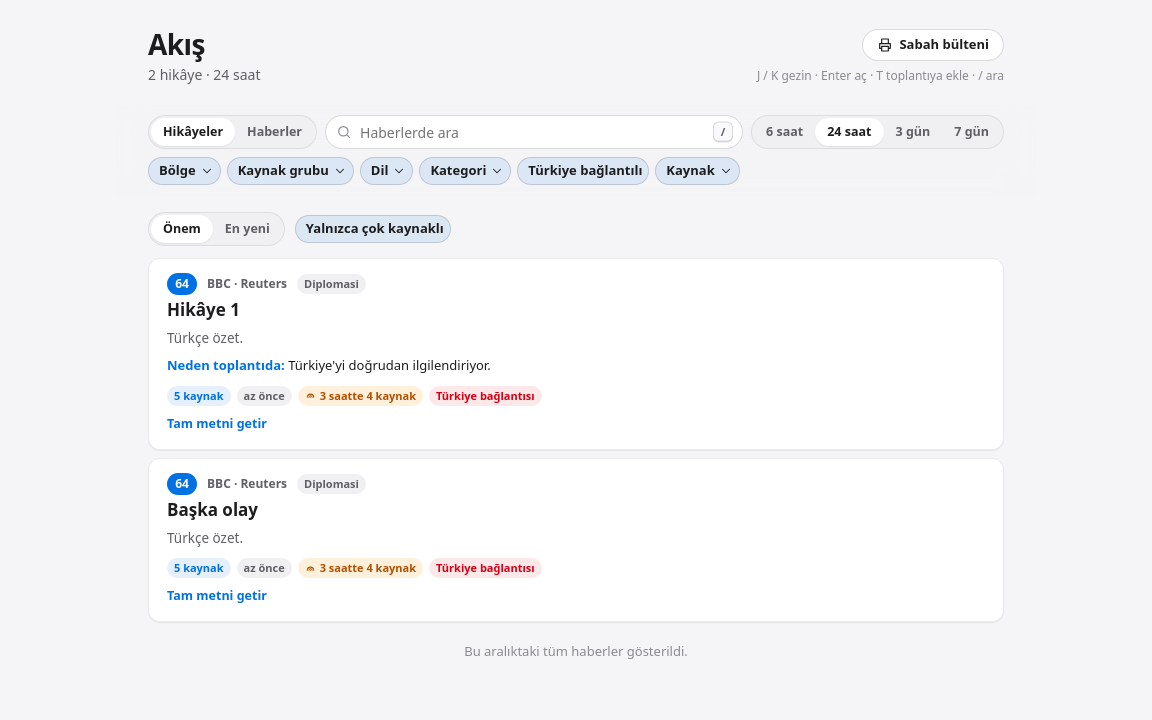
Test: Story detail › detaches a wrongly grouped report and reloads the list
The width and height of the screenshot is (1152, 720).
Click the button "Hikâye 1" at (203, 311), box [167,299,240,322]
(page scrolled)
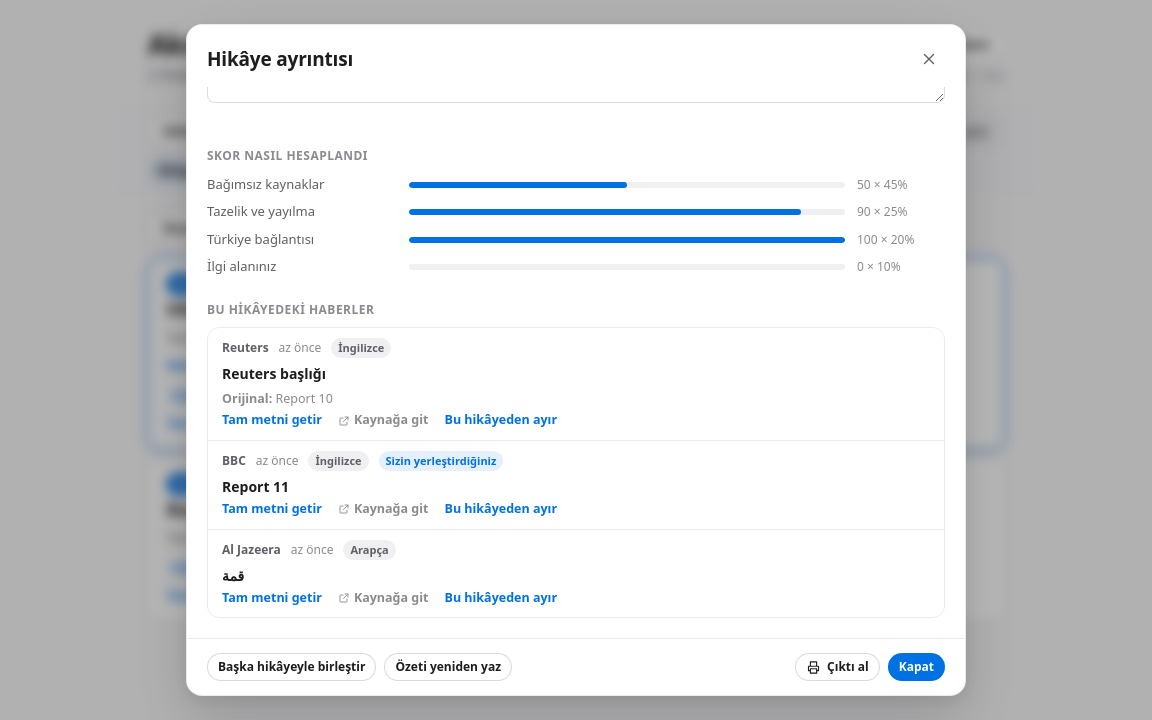
Click the button "Bu hikâyeden ayır" below "Al Jazeera" at (501, 598), box [444,589,557,608]
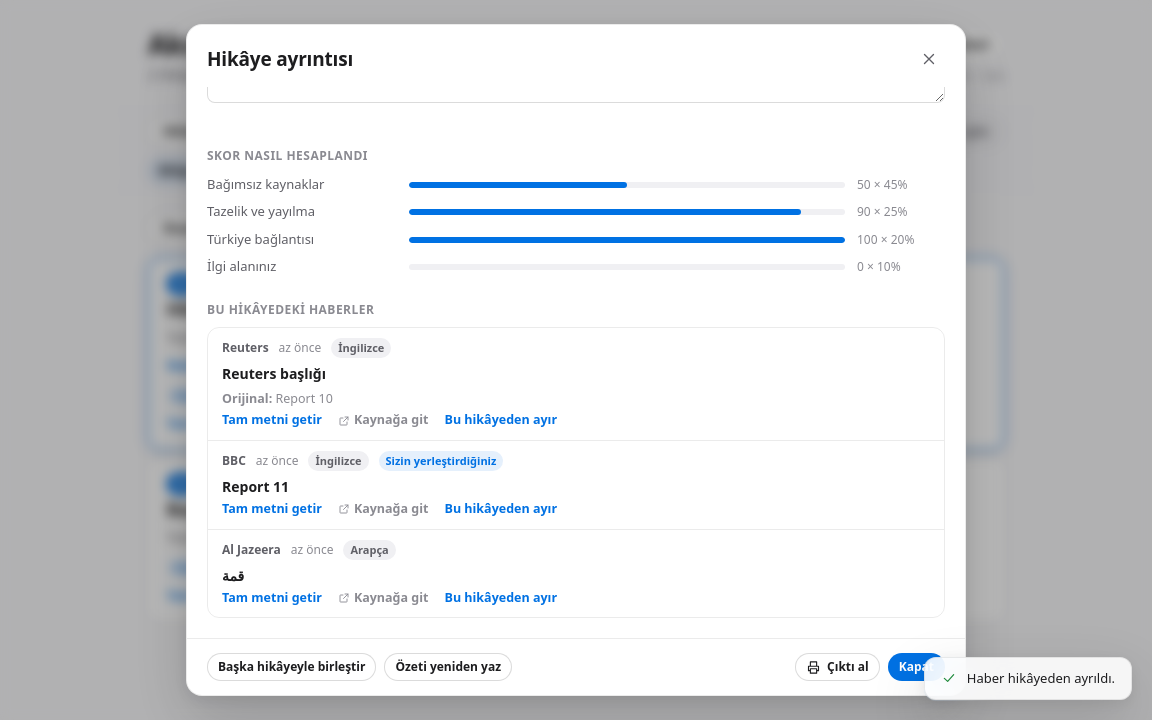
expect the text "Haber hikâyeden ayrıldı." is shown: met, box [967,668,1115,688]
